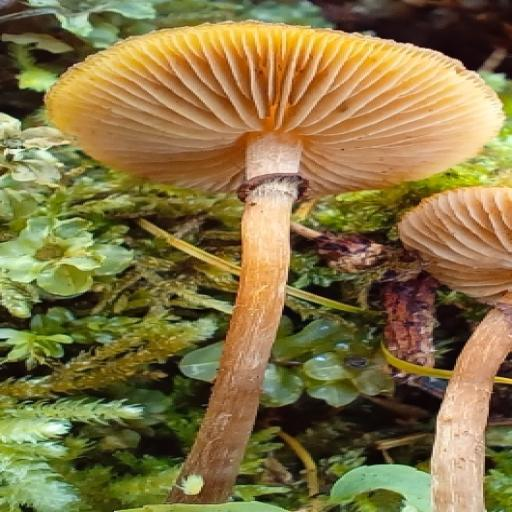mushroom: (26, 13, 512, 418)
